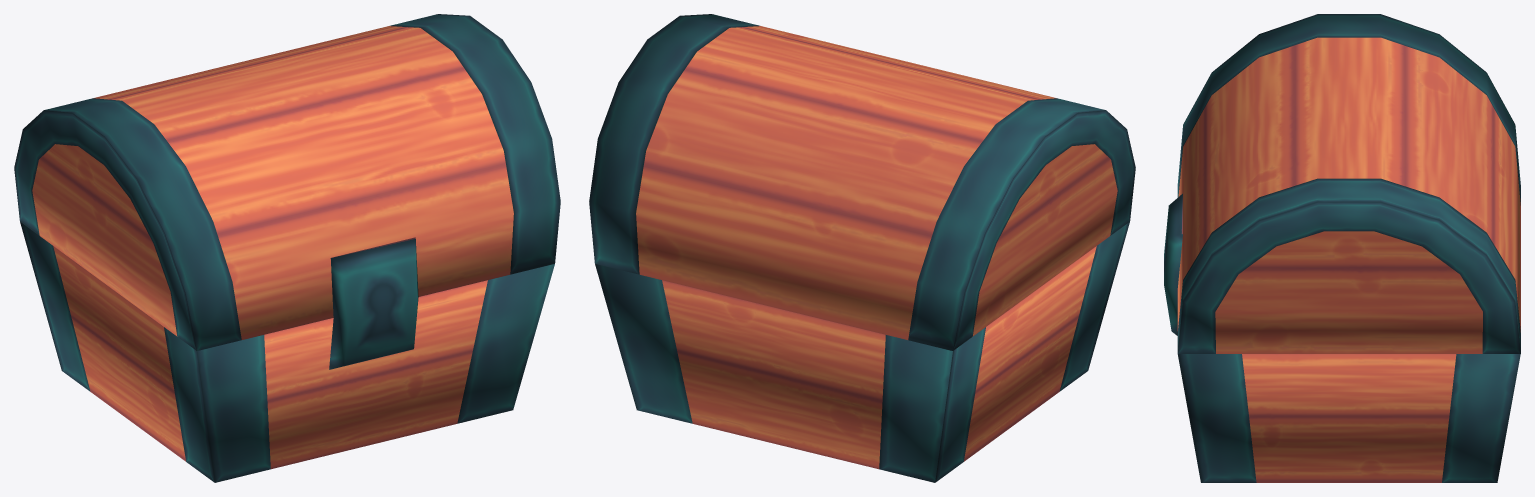
Rendered from Chest.fbx.
The picture shows the model from 3 angles, left to right: view 1: azimuth 30°, elevation 25°; view 2: azimuth 150°, elevation 25°; view 3: azimuth 270°, elevation 25°; orthographic projection. The views are drawn at different scales.
Parts seen in each view (by area): view 1: ChestLid, ChestBase; view 2: ChestLid, ChestBase; view 3: ChestLid, ChestBase.
Boxes of the visible parts, x1,y1,x2,y2 form: ChestLid: [14, 14, 560, 369]; ChestBase: [20, 222, 554, 482]; ChestLid: [589, 14, 1135, 350]; ChestBase: [595, 222, 1129, 482]; ChestLid: [1164, 14, 1520, 353]; ChestBase: [1177, 354, 1520, 482].
Size of the model in its own units: 1.18 by 0.8927 by 0.9477.
